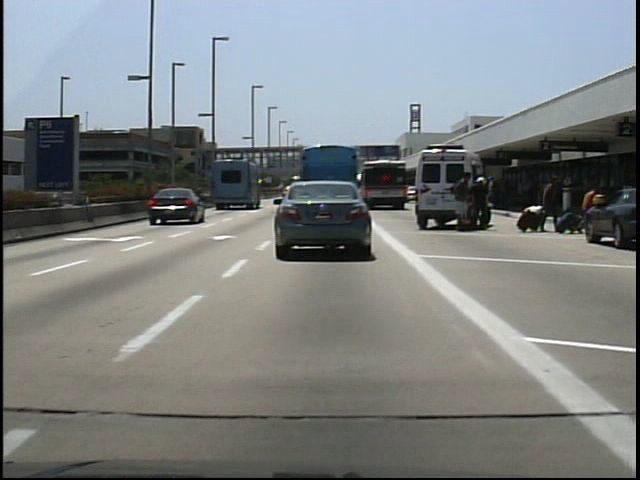person: (540, 169, 565, 238), (450, 168, 474, 233), (576, 181, 603, 238), (470, 174, 494, 231)
